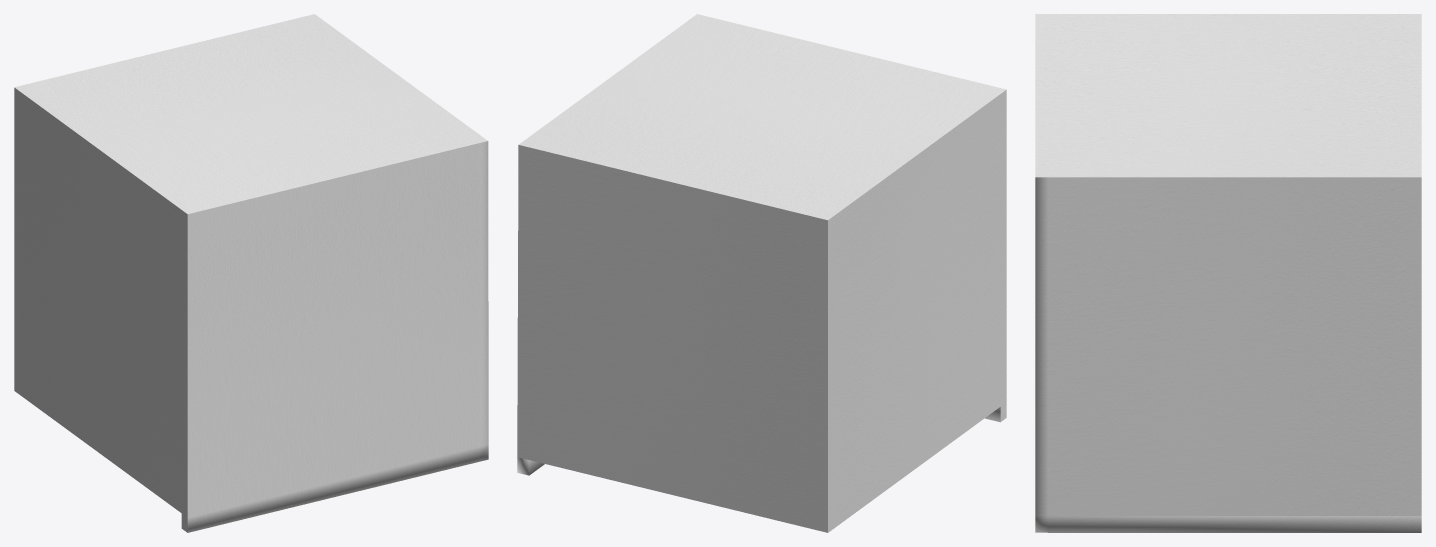
The model's file is ceiling_corner.FBX.
3 renders of one model, left to right at view 1: azimuth 30°, elevation 25°; view 2: azimuth 150°, elevation 25°; view 3: azimuth 270°, elevation 25°, orthographic. The views are drawn at different scales.
Parts seen in each view (by area): view 1: ceiling_corner; view 2: ceiling_corner; view 3: ceiling_corner.
Boxes of the visible parts, <box> form: ceiling_corner: <box>14,14,488,532</box>; ceiling_corner: <box>517,14,1006,532</box>; ceiling_corner: <box>1035,14,1421,532</box>.
Size of the model in its own units: 1.04 by 1.04 by 1.05.
1 material, 1 textured.
